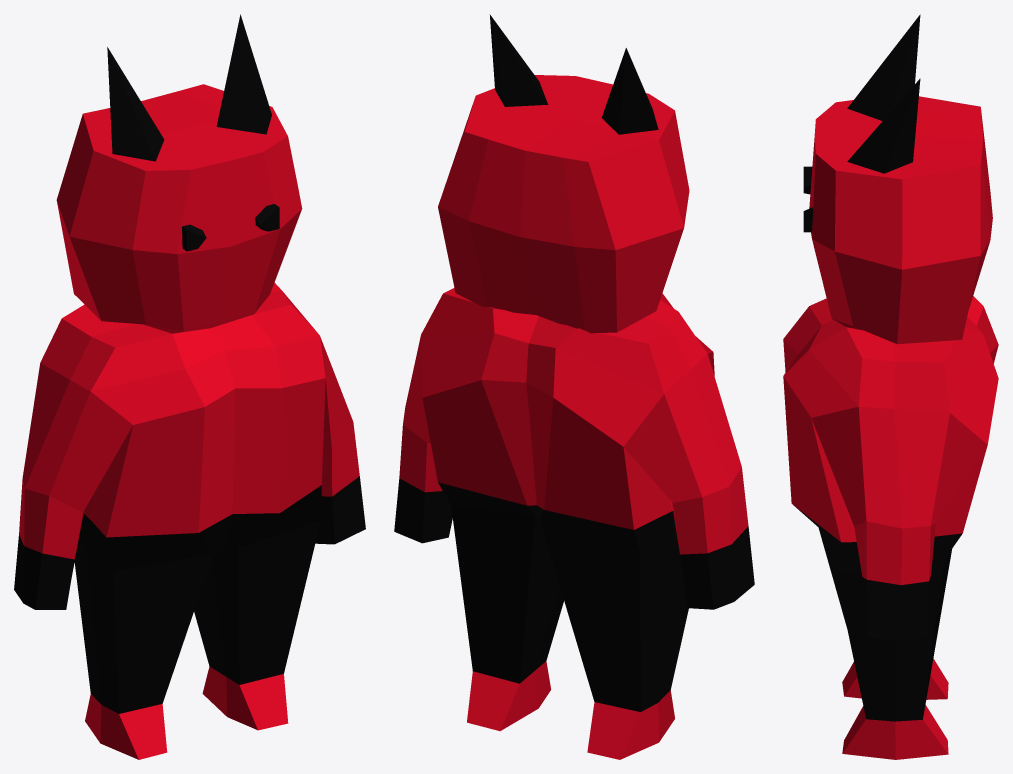
Rendered from BigDemon.fbx.
3 views of the same model, side by side, from view 1: azimuth 30°, elevation 25°; view 2: azimuth 150°, elevation 25°; view 3: azimuth 270°, elevation 25° (orthographic). The views are drawn at different scales.
Parts seen in each view (by area): view 1: LittleDemon; view 2: LittleDemon; view 3: LittleDemon.
Part boxes in pixels (x1,y1,x2,y2): LittleDemon: (14,14,365,759); LittleDemon: (394,14,754,759); LittleDemon: (783,14,998,759).
Size of the model in its own units: 7.48 by 14.77 by 4.28.
